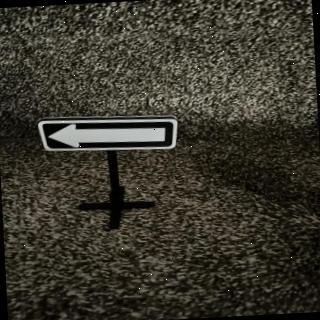sign_oneway_left: (38, 112, 181, 159)
